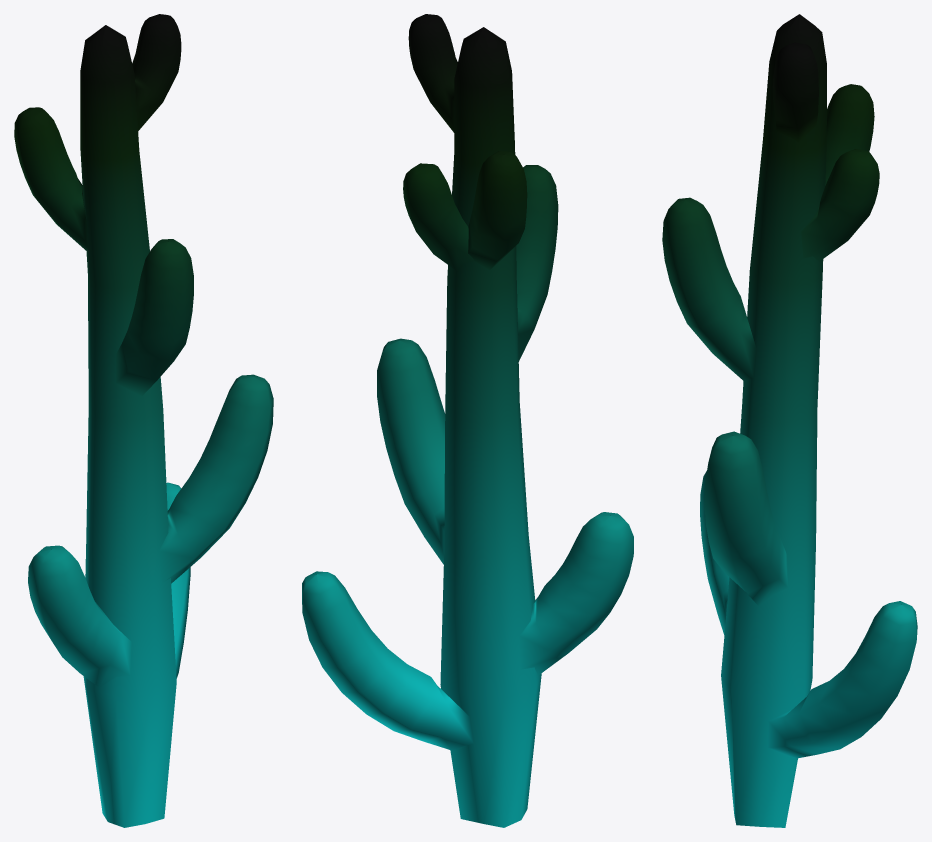
The model's file is Saguaro6.fbx.
The picture shows the model from 3 angles, left to right: view 1: azimuth 30°, elevation 25°; view 2: azimuth 150°, elevation 25°; view 3: azimuth 270°, elevation 25°; orthographic projection. The views are drawn at different scales.
Visible parts, largest first — view 1: Saguaro6_LOD0; view 2: Saguaro6_LOD0; view 3: Saguaro6_LOD0.
Part boxes in pixels (box(x1,y1,x2,y2)): Saguaro6_LOD0: box(14, 14, 273, 827); Saguaro6_LOD0: box(302, 14, 633, 827); Saguaro6_LOD0: box(662, 14, 917, 827).
Size of what is drawn, in the model's own units: 115 by 358 by 104.
